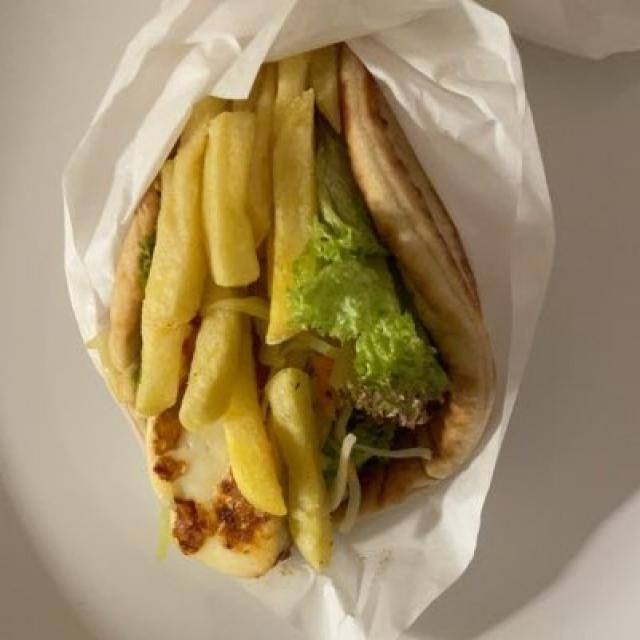chips-french-fries: (111, 42, 343, 565)
kebab-in-pita-bread: (110, 57, 489, 586)
